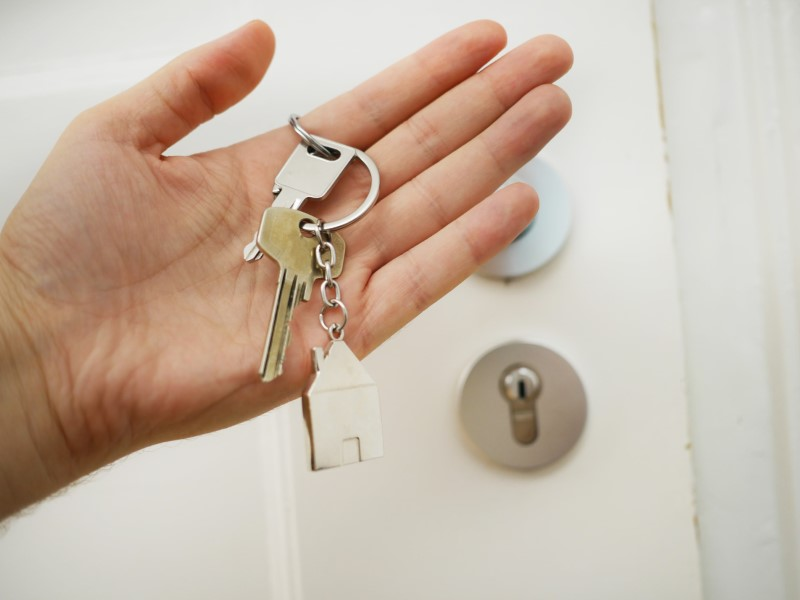key: (237, 135, 360, 382)
